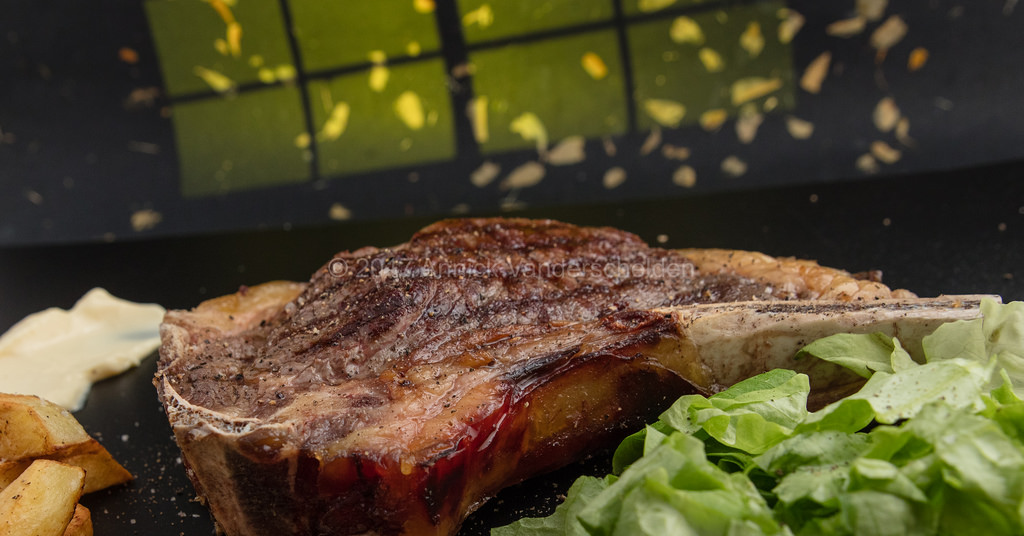chopped lettuce: (701, 406, 1009, 519)
